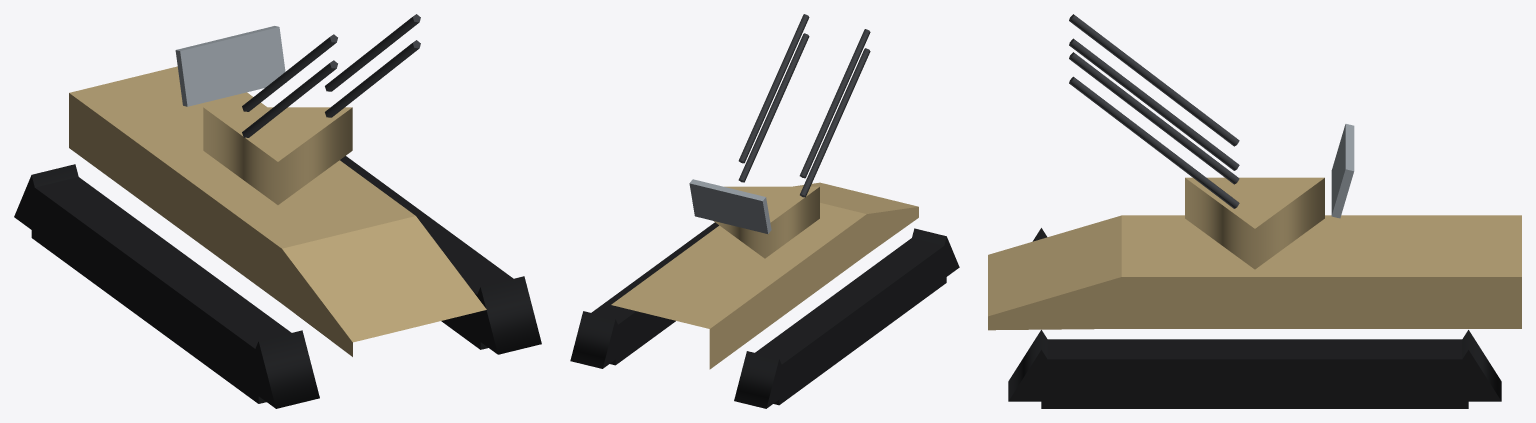
File: veh_ground_aa_tracked_a07_lod2.glb
3 views of the same model, side by side, from view 1: azimuth 30°, elevation 25°; view 2: azimuth 150°, elevation 25°; view 3: azimuth 270°, elevation 25° (orthographic). The views are drawn at different scales.
Visible parts, largest first — view 1: body, track_r, turret, track_l, radar; view 2: body, track_r, turret, track_l, radar; view 3: body, track_l, turret, radar.
Boxes of the visible parts, x1=… form: body: x1=69, y1=66, x2=486, y2=356; track_r: x1=14, y1=164, x2=319, y2=408; turret: x1=203, y1=14, x2=420, y2=204; track_l: x1=340, y1=156, x2=541, y2=354; radar: x1=175, y1=26, x2=286, y2=106; body: x1=611, y1=182, x2=918, y2=369; track_r: x1=734, y1=228, x2=959, y2=408; turret: x1=714, y1=14, x2=870, y2=258; track_l: x1=570, y1=222, x2=718, y2=368; radar: x1=689, y1=179, x2=771, y2=233; body: x1=988, y1=215, x2=1521, y2=330; track_l: x1=1008, y1=330, x2=1501, y2=408; turret: x1=1069, y1=14, x2=1324, y2=269; radar: x1=1331, y1=124, x2=1354, y2=218.
Size of the model in its own units: 3.21 by 3.86 by 5.94.
